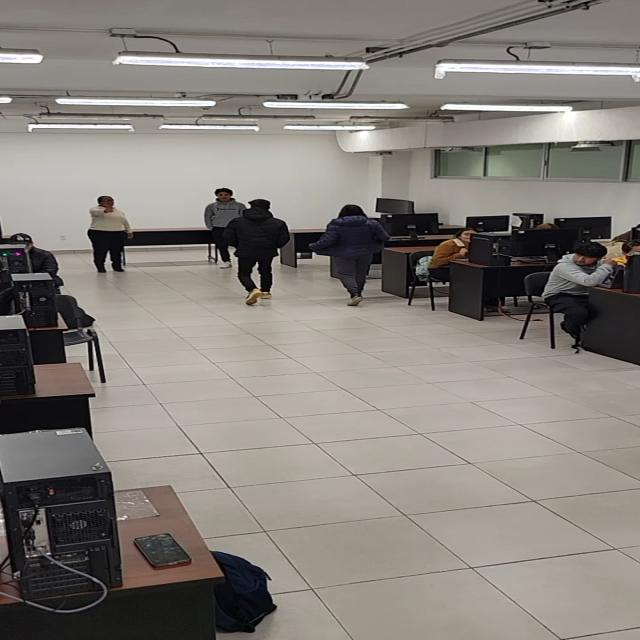Persona: (308, 204, 391, 306), (225, 198, 291, 306), (86, 195, 133, 273), (204, 188, 249, 269)
